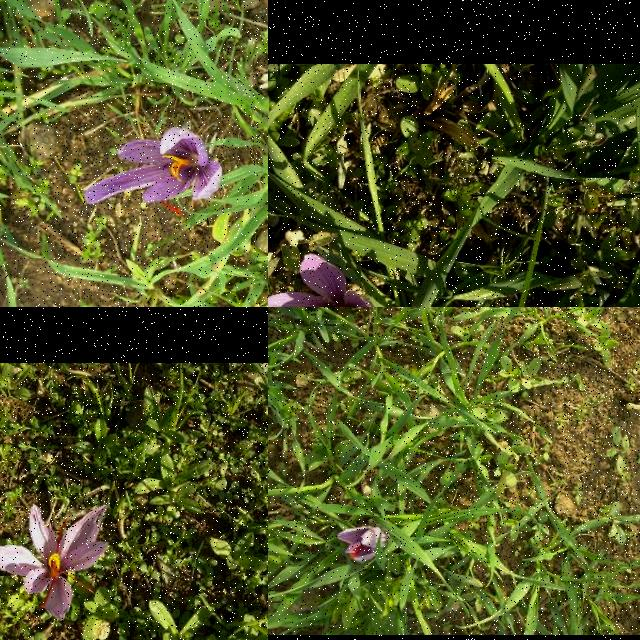flower: (0, 504, 111, 621), (84, 126, 222, 216), (268, 254, 387, 307), (338, 527, 386, 565)
